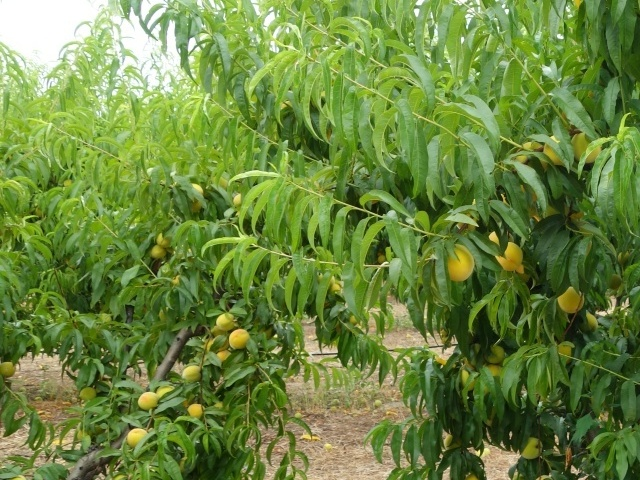peach: (438, 240, 478, 281), (489, 239, 530, 274), (535, 130, 570, 171), (550, 284, 590, 319), (568, 128, 602, 169), (516, 435, 544, 463), (479, 357, 509, 383), (225, 329, 254, 355), (557, 336, 583, 364), (136, 389, 163, 413), (179, 362, 207, 385), (483, 343, 507, 369), (122, 426, 150, 448), (76, 382, 98, 406), (211, 312, 236, 333), (150, 383, 174, 404), (183, 400, 205, 422), (147, 243, 167, 262), (212, 347, 232, 366), (1, 359, 20, 378), (151, 232, 173, 248)
